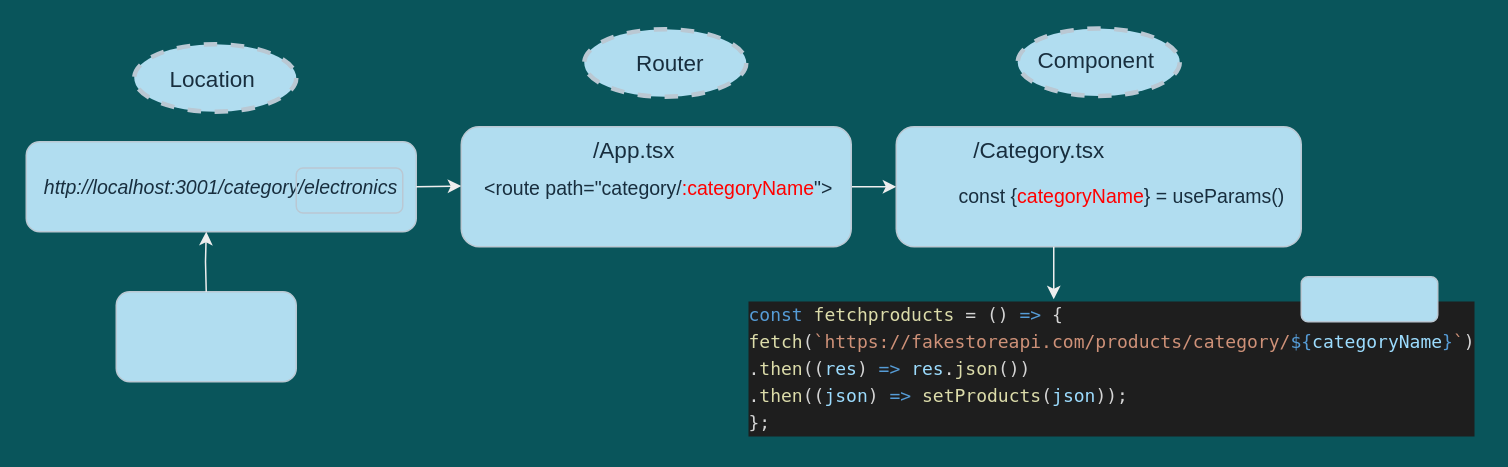
Image size: 1508x467. Some labels were removed from this diagram. Here are the shapes that lost their labels. From the top down, the centre of each, then its label:
point (1369, 298): electronics
point (205, 336): navigation / bookmark / searchbar
